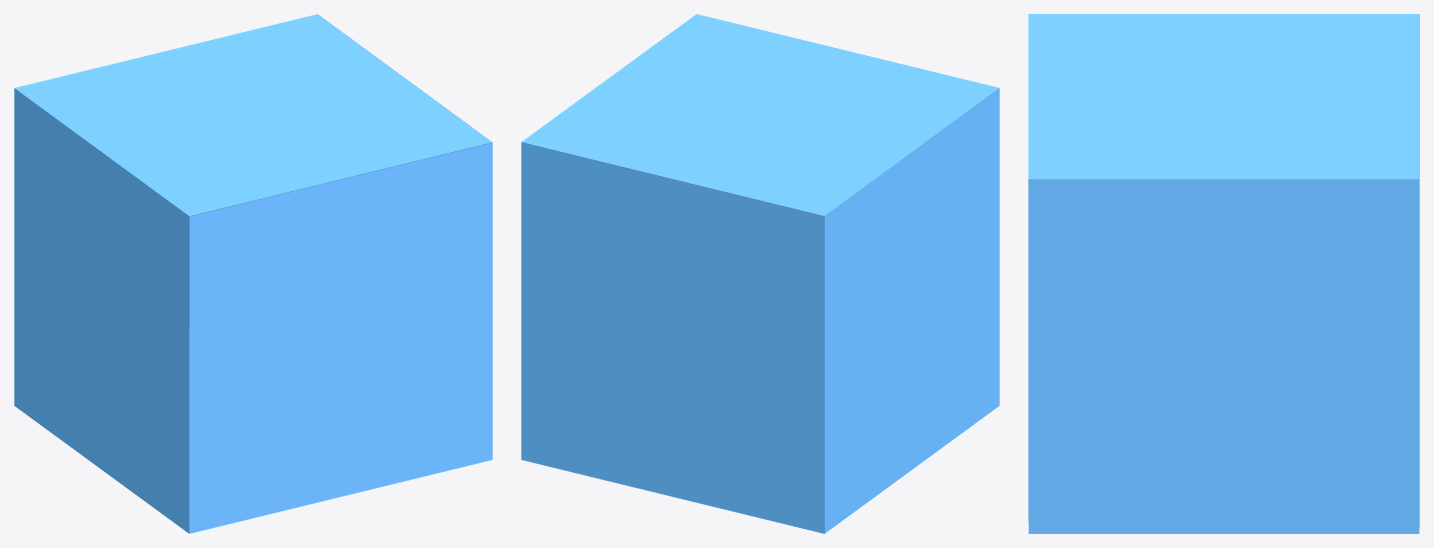
The model's file is tesseract.fbx.
3 views of the same model, side by side, from view 1: azimuth 30°, elevation 25°; view 2: azimuth 150°, elevation 25°; view 3: azimuth 270°, elevation 25° (orthographic). The views are drawn at different scales.
Parts seen in each view (by area): view 1: Tesseract; view 2: Tesseract; view 3: Tesseract.
Boxes of the visible parts, bbox=[...] form: Tesseract: bbox=[14, 14, 492, 533]; Tesseract: bbox=[521, 14, 999, 533]; Tesseract: bbox=[1028, 14, 1419, 533].
Bounding box in the file's own units: 535 × 536 × 536.
